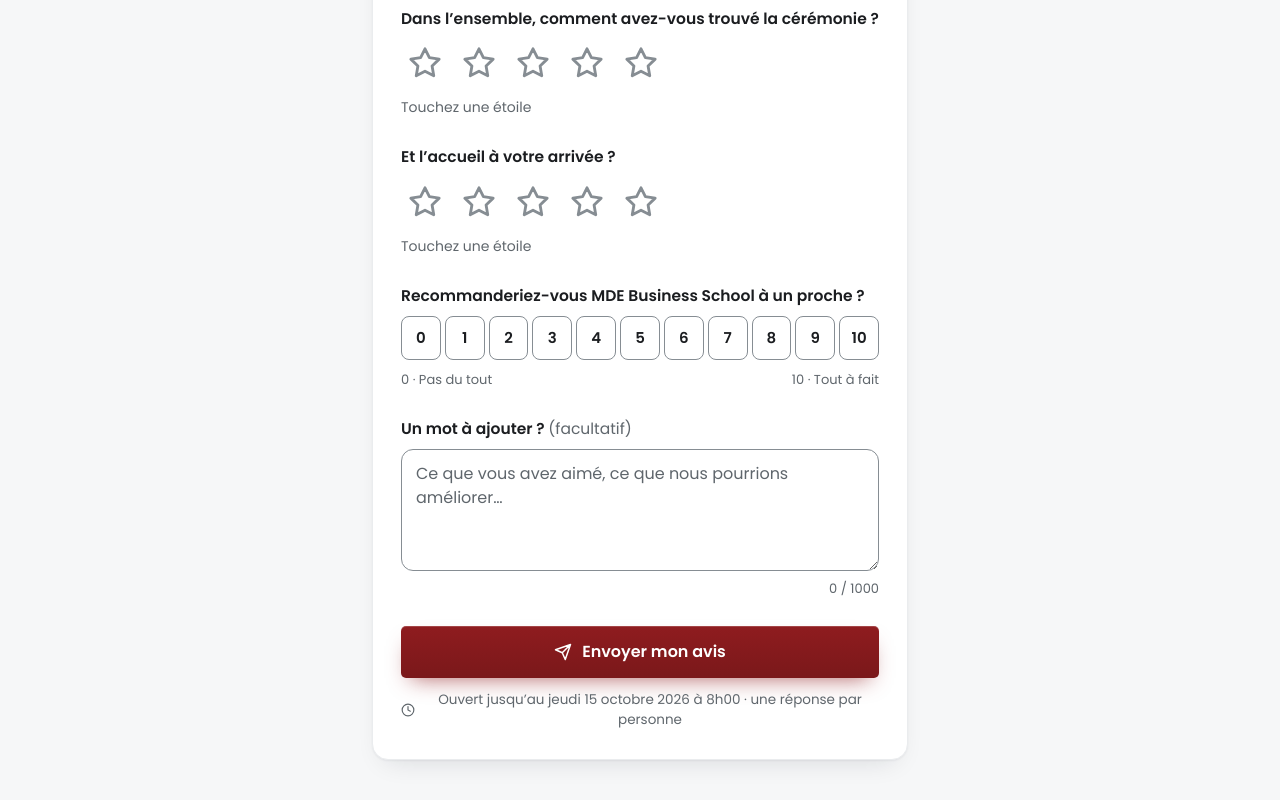
Test: sondage public › trois questions obligatoires, puis envoi et remerciement
(page scrolled)
Expected: the text "Ouvert jusqu’au jeudi 15 octobre 2026 à 8h00" is shown, [401,690,879,731]
Click the button "Envoyer mon avis" at (640, 652), box [401,626,879,678]
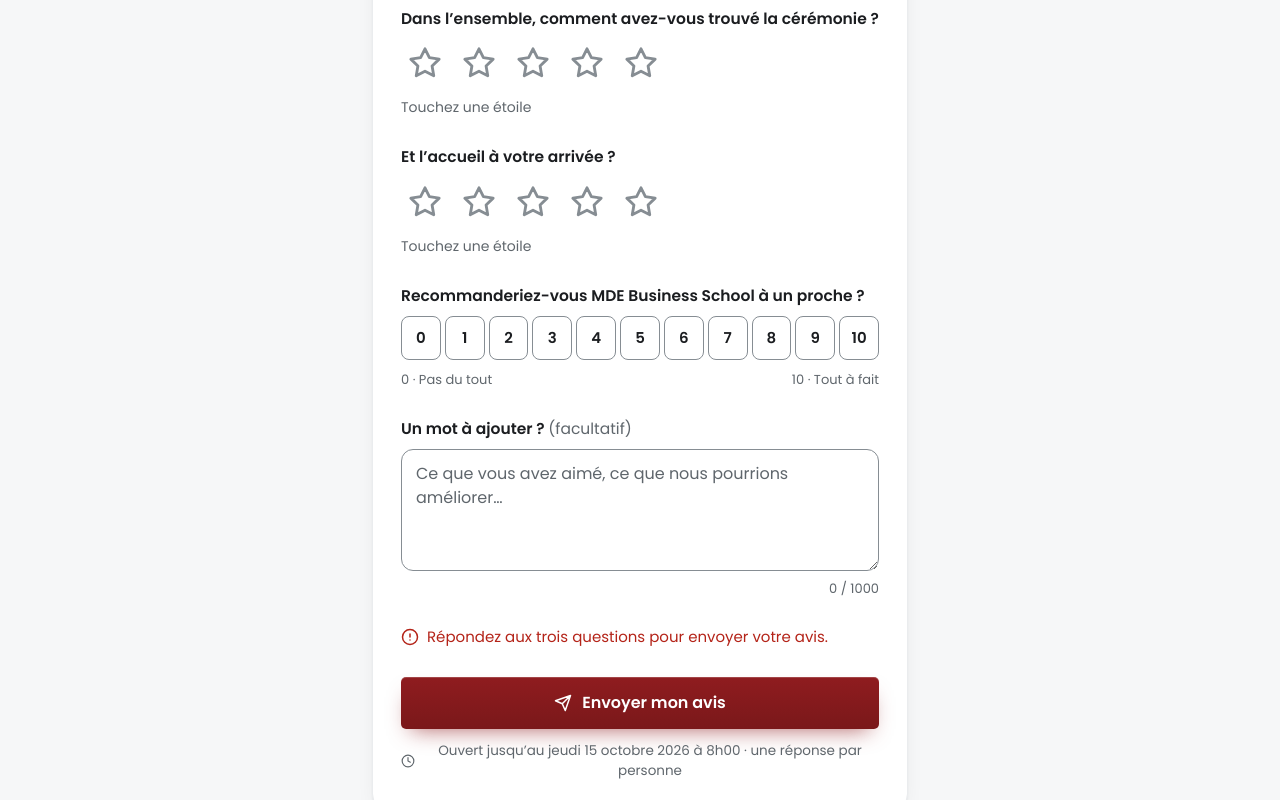
Result: the text "Répondez aux trois questions pour envoyer votre avis." is shown at [401,626,879,649]
Click the 1st radio button named "5 sur 5" at (641, 63), box [617,39,665,87]
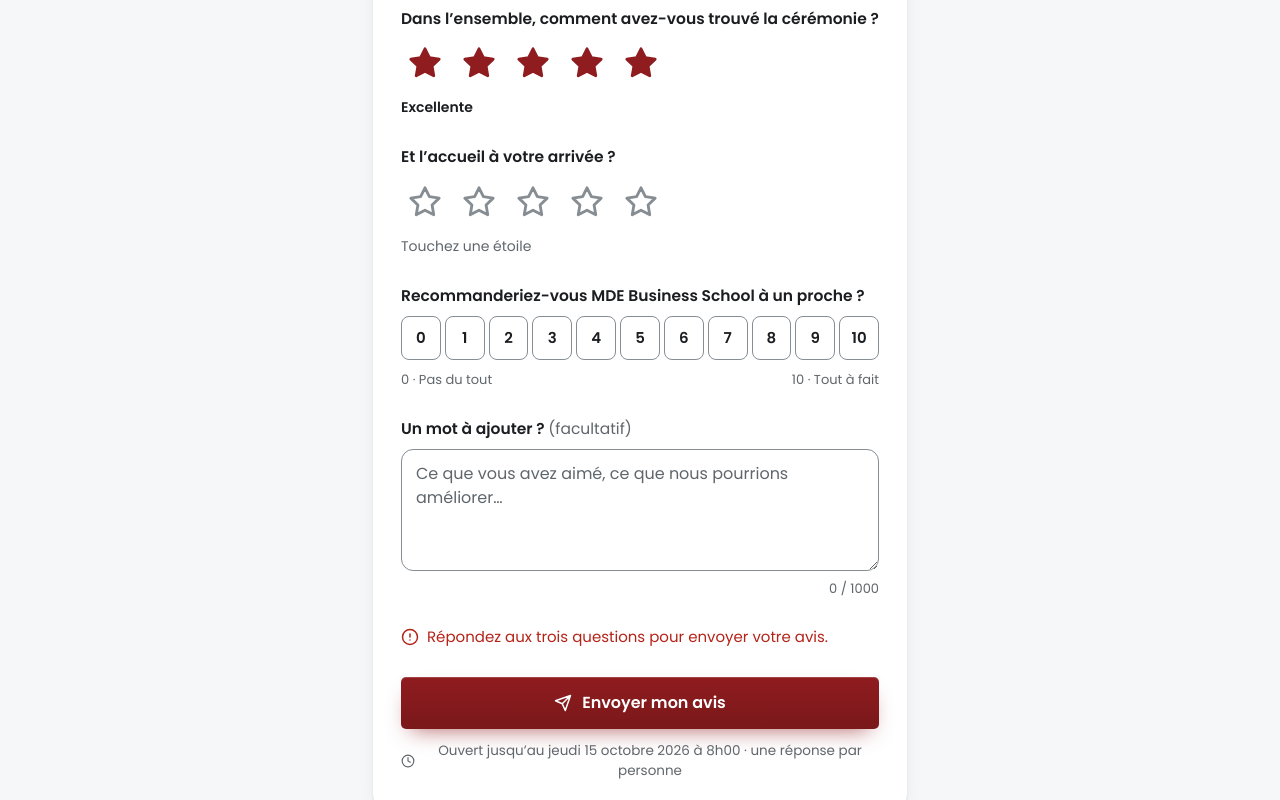
Click the radio button named "4 sur 5" below "Et l’accueil à votre arrivée ?" at (587, 202), box [563,178,611,226]
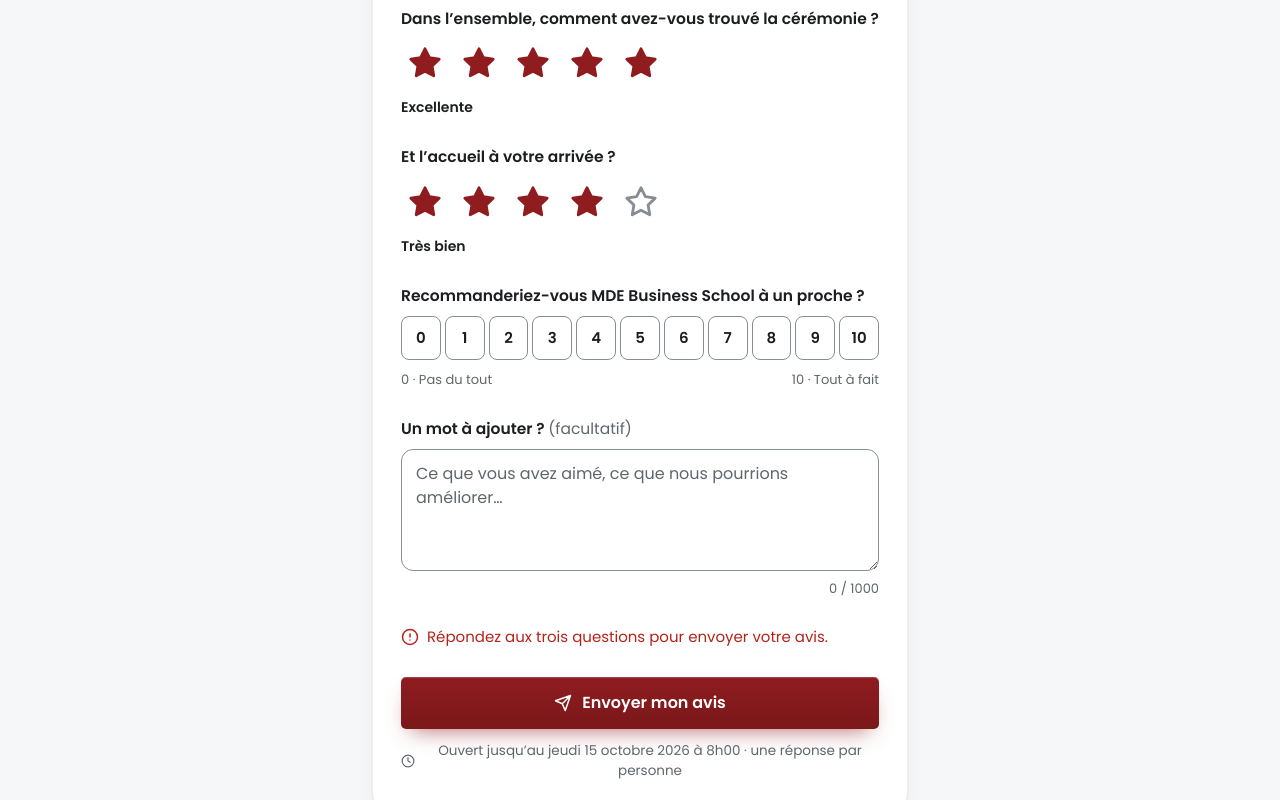
Click the radio button named "9 sur 10" at (815, 338), box [795,316,835,360]
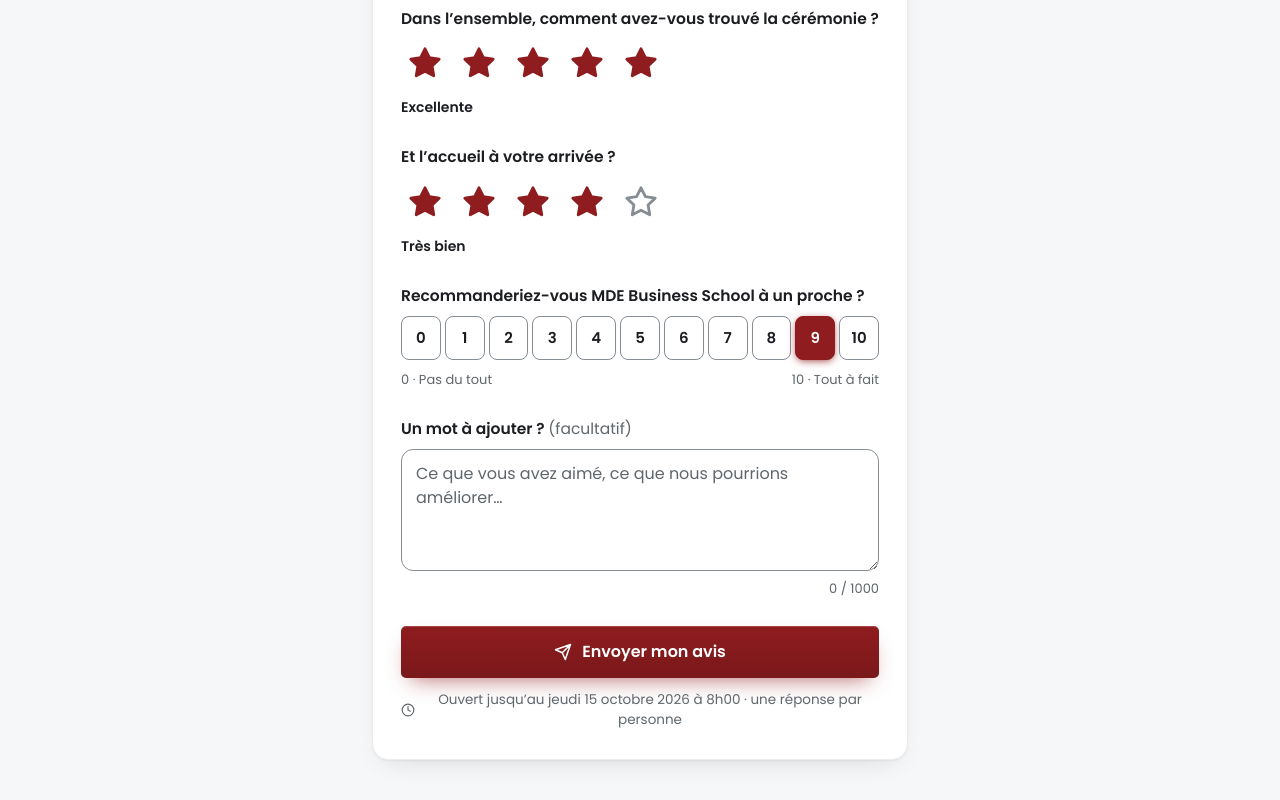
Type "  Merci !  " into the text box labelled "Un mot à ajouter ? (facultatif)" at (640, 510), box [401,449,879,571]
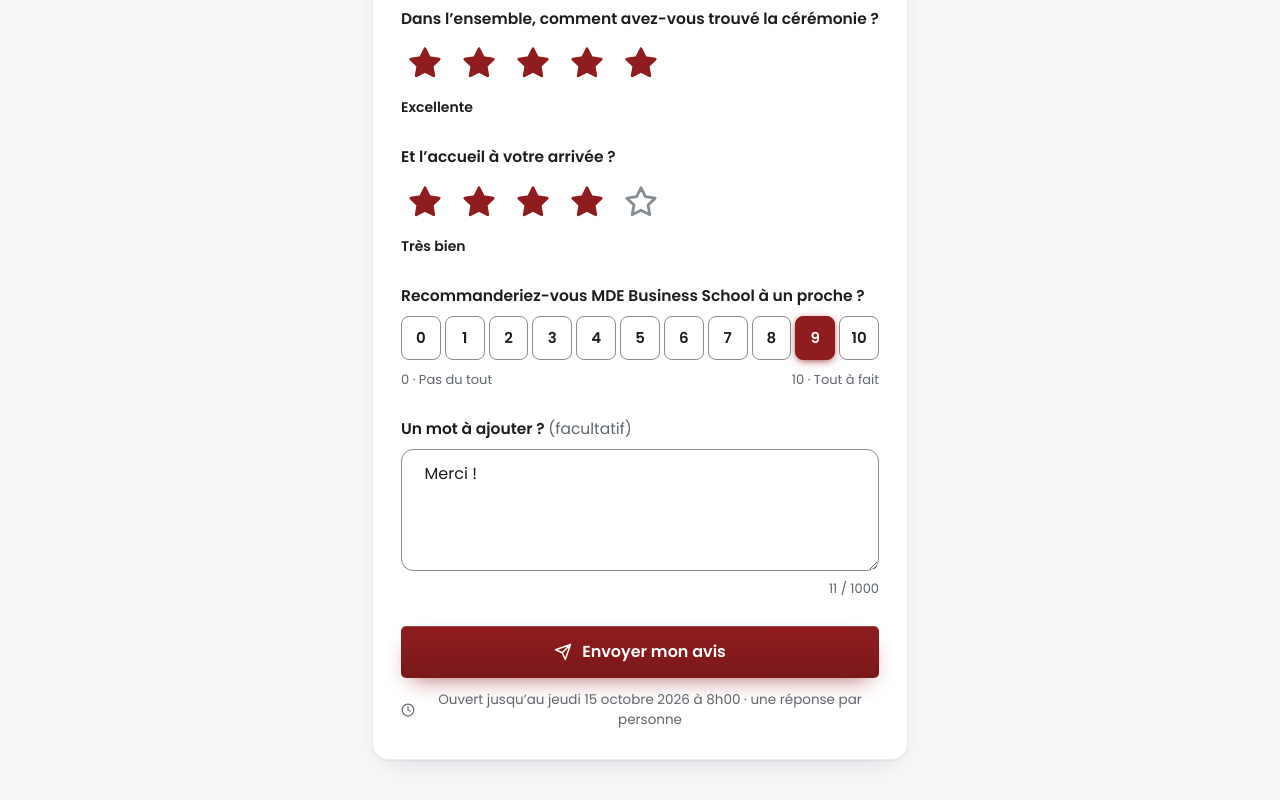
Click the button "Envoyer mon avis" at (640, 652), box [401,626,879,678]
(page scrolled)
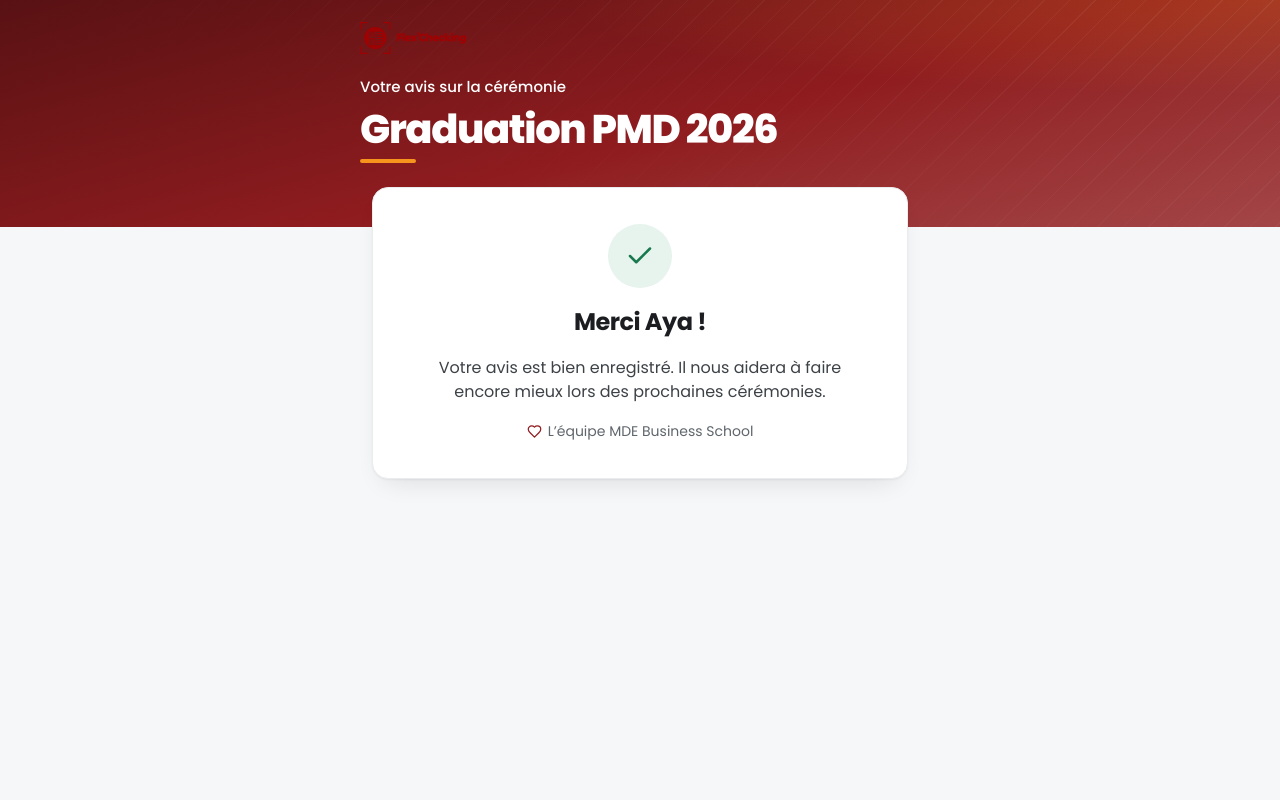
Result: the heading "Merci Aya !" is shown at [574,304,706,340]
